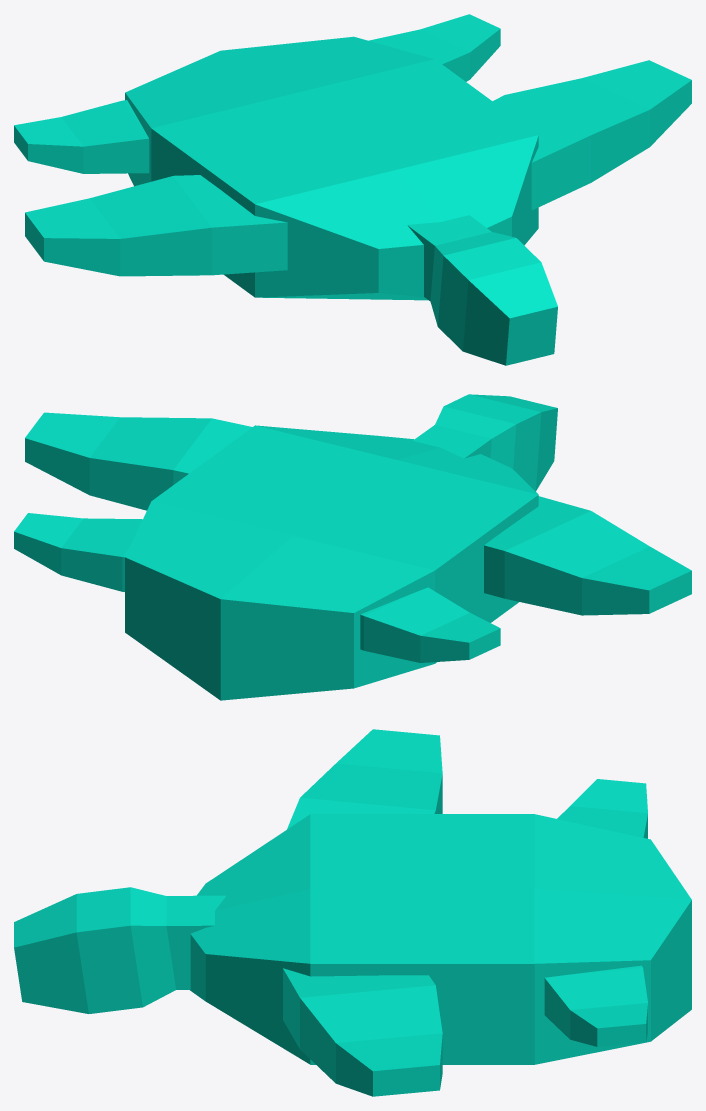
The model's file is Tourtise.fbx.
The picture shows the model from 3 angles, top to bottom: view 1: azimuth 30°, elevation 25°; view 2: azimuth 150°, elevation 25°; view 3: azimuth 270°, elevation 25°; orthographic projection. The views are drawn at different scales.
Parts seen in each view (by area): view 1: Cube, Cube.001, Cube.003, Cube.002; view 2: Cube, Cube.001, Cube.002, Cube.003; view 3: Cube, Cube.001, Cube.003, Cube.002.
Part boxes in pixels (x1,y1,x2,y2): Cube: [125, 36, 538, 300]; Cube.001: [25, 60, 691, 276]; Cube.003: [407, 215, 557, 365]; Cube.002: [14, 14, 500, 173]; Cube: [125, 425, 538, 700]; Cube.001: [25, 412, 691, 615]; Cube.002: [14, 513, 500, 662]; Cube.003: [413, 394, 557, 491]; Cube: [190, 814, 691, 1064]; Cube.001: [283, 729, 442, 1096]; Cube.003: [14, 887, 226, 1013]; Cube.002: [544, 779, 647, 1046].
Size of the model in its own units: 457 by 84.74 by 383.
